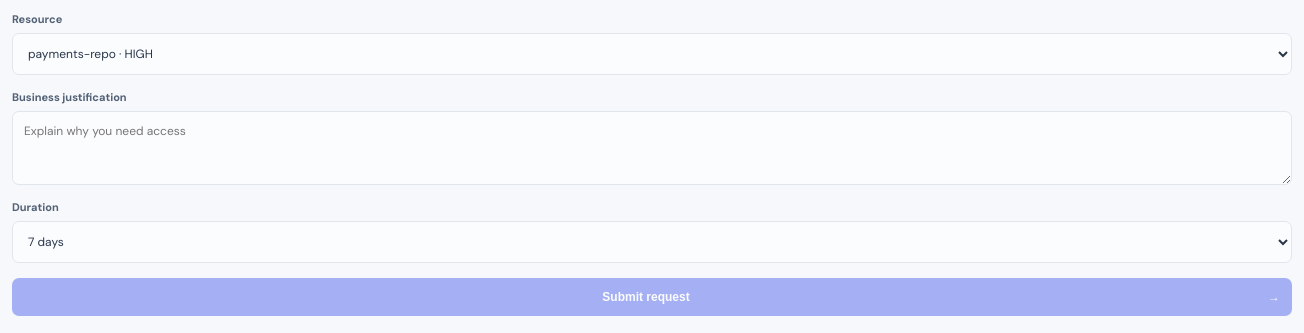
Test case: RequestForm › disables submit while the request is pending and sends an idempotency key
Type "Need access for incident review" into the text box labelled "Business justification" at (652, 148), box [12, 111, 1292, 185]
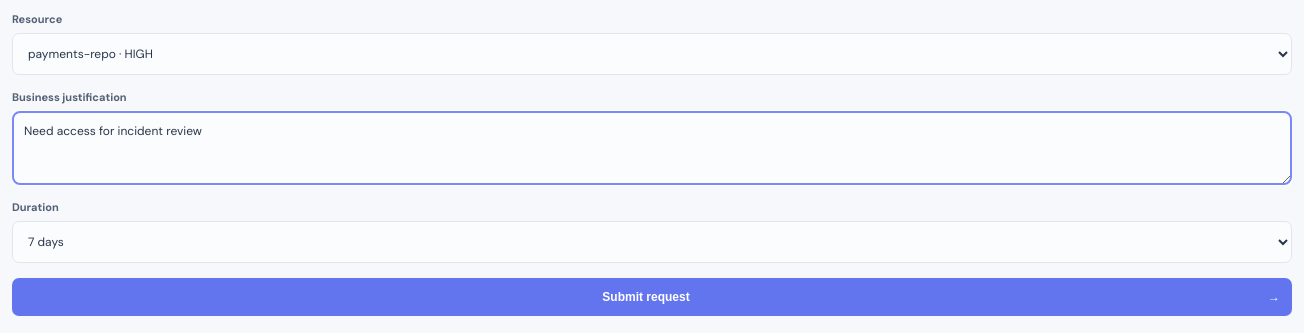
Click the button "Submit request →" at (652, 297), box [12, 278, 1292, 316]
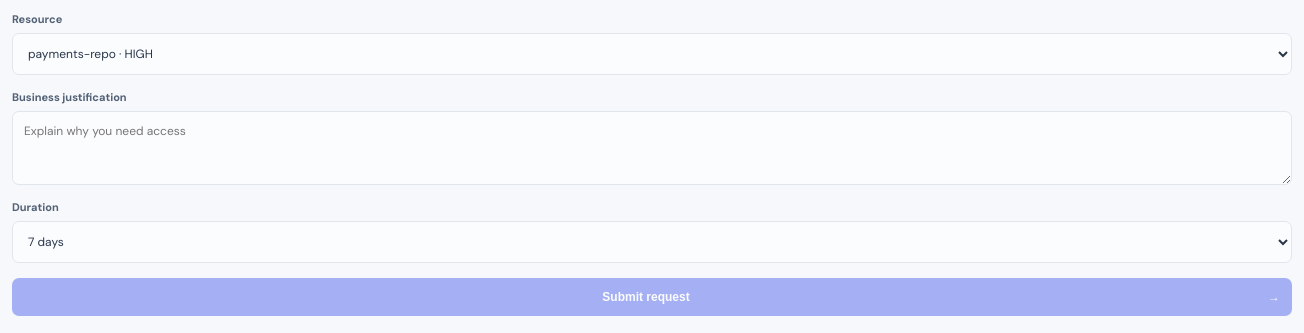
Expected: the button named "submitting" is disabled, [12, 278, 1292, 316]
Expected: the button "Submit request →" is disabled, [12, 278, 1292, 316]
Note: Enter a new justification to enable the button again.
Type "Need access for incident review" into the text box labelled "Business justification" at (652, 148), box [12, 111, 1292, 185]
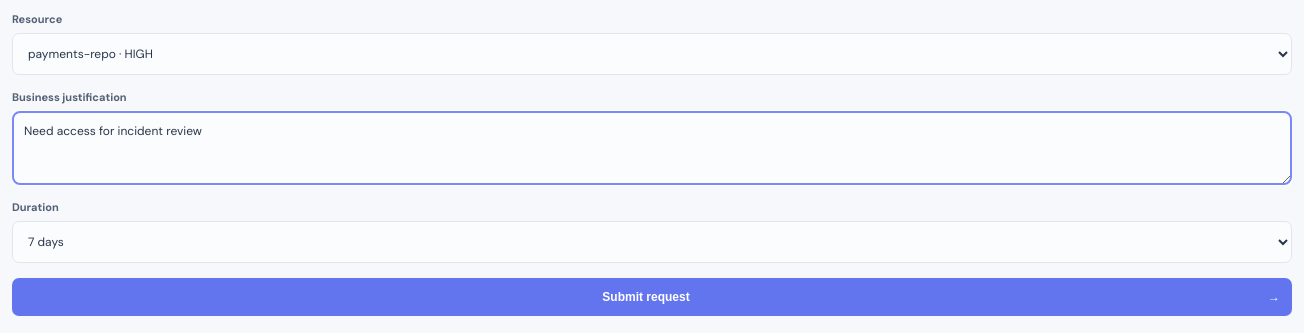
Expected: the button "Submit request →" is enabled, [12, 278, 1292, 316]
